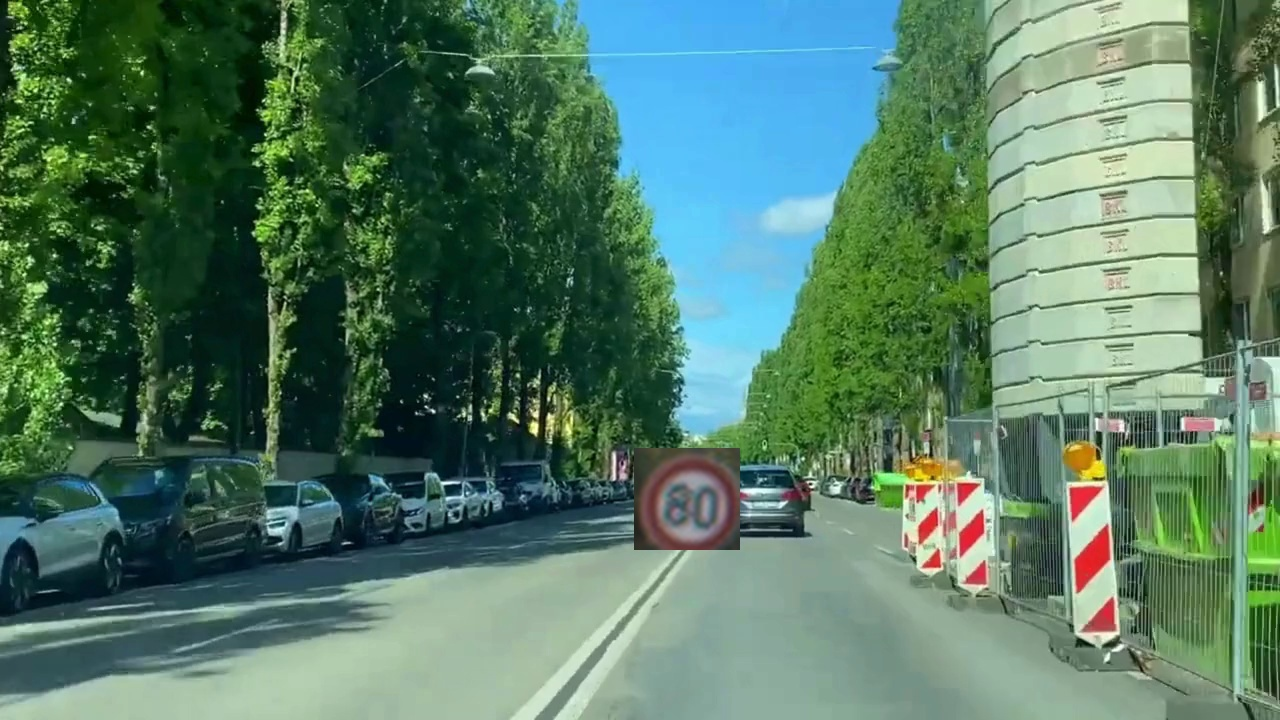Speed 80: (634, 448, 740, 550)
